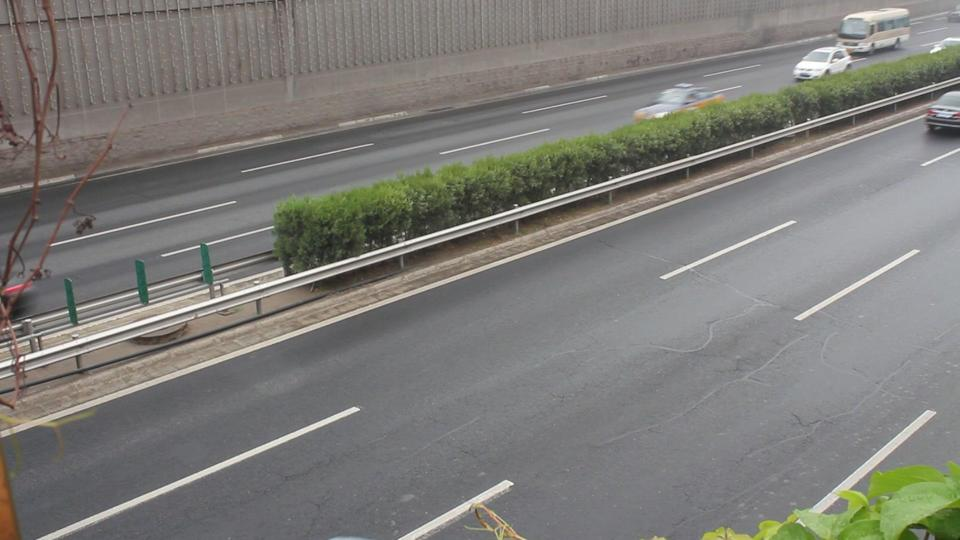bus: (834, 8, 912, 56)
car: (633, 83, 727, 124), (793, 45, 854, 81), (924, 91, 960, 134), (947, 9, 960, 22)
